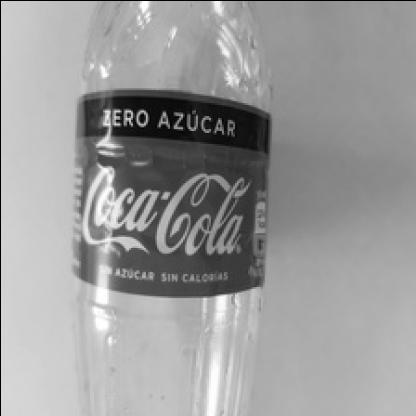plastic_bottles: (60, 0, 276, 416)
